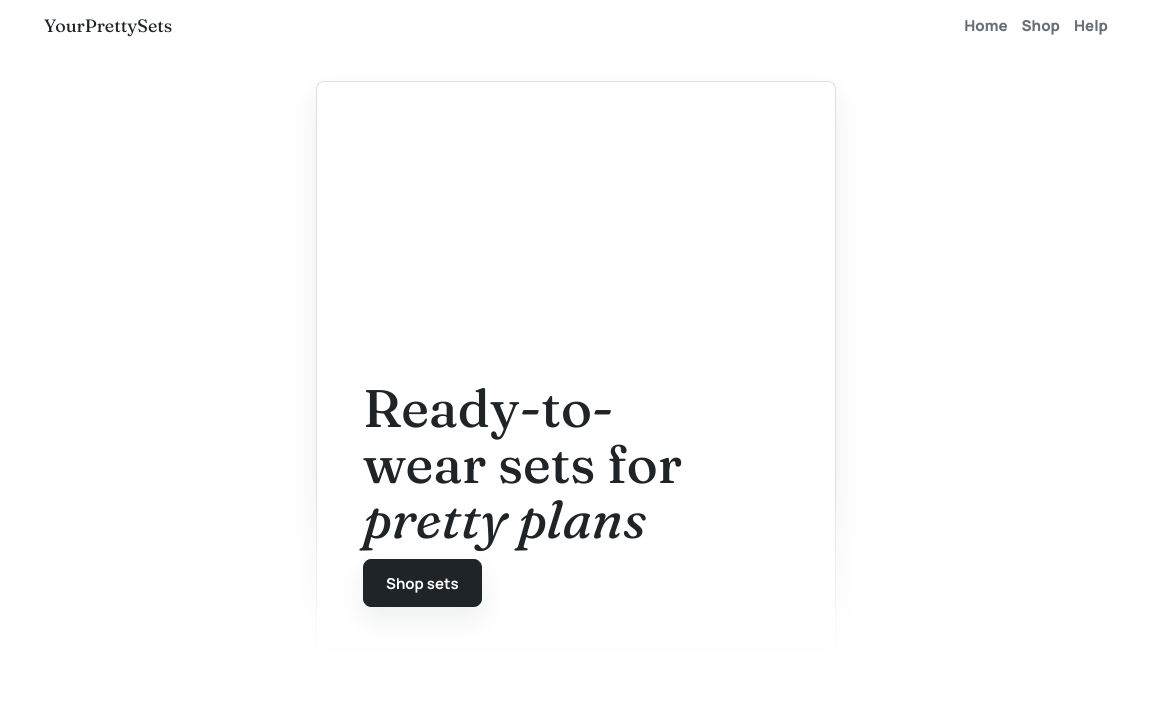
it: App › navigates from the primary Help link to the Help hub
Click the link "Help".
click(1091, 26)  # box [1074,15,1108,36]
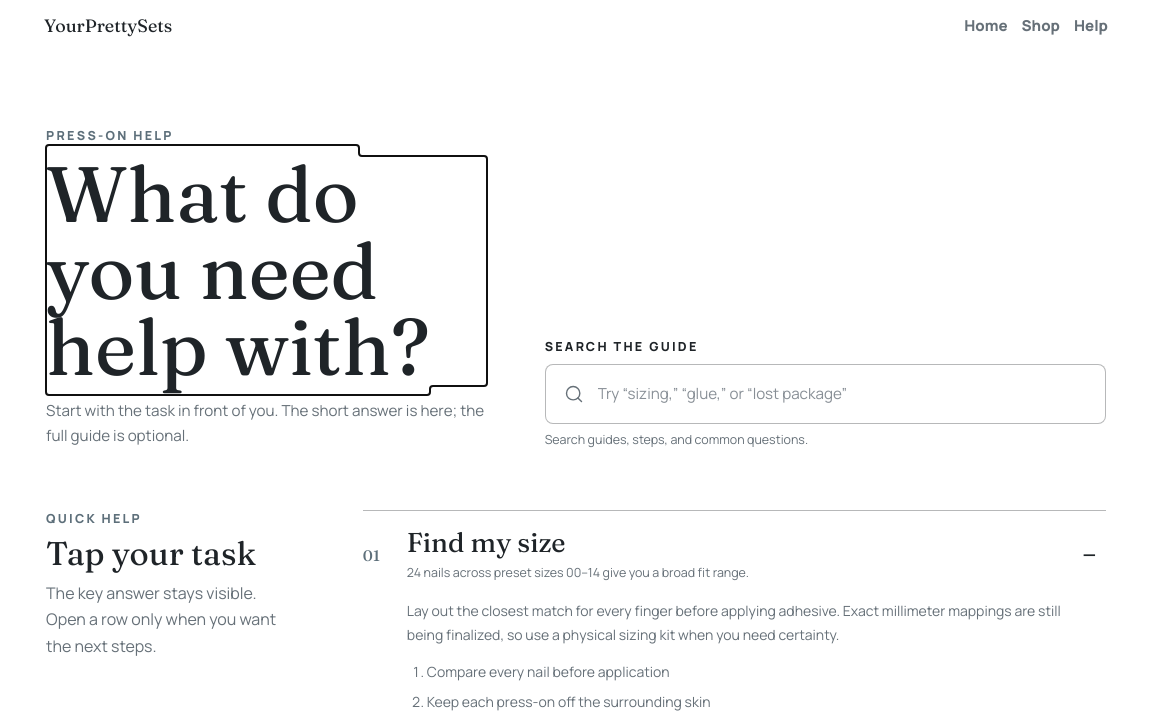
Check: the heading "What do you need help with?" is shown, box [46,156,487,386]
